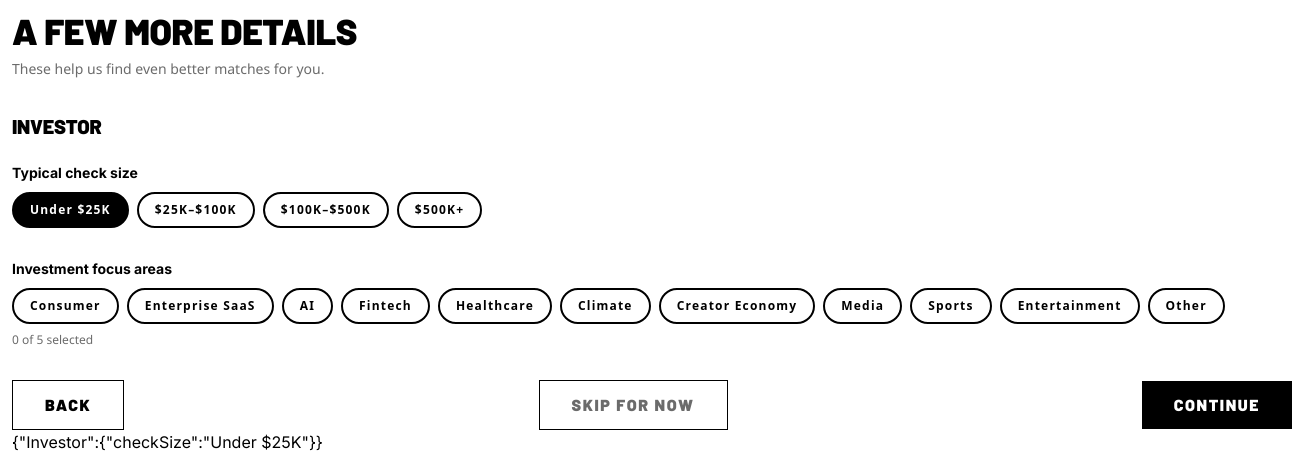
Test: allows optional skipping and clears the displayed answers
The image size is (1304, 469).
What coordinates should you click on to do the following:
click the button "Skip for now"
I would click on:
 (633, 405)
Its box is top-left (538, 380), bottom-right (728, 430).
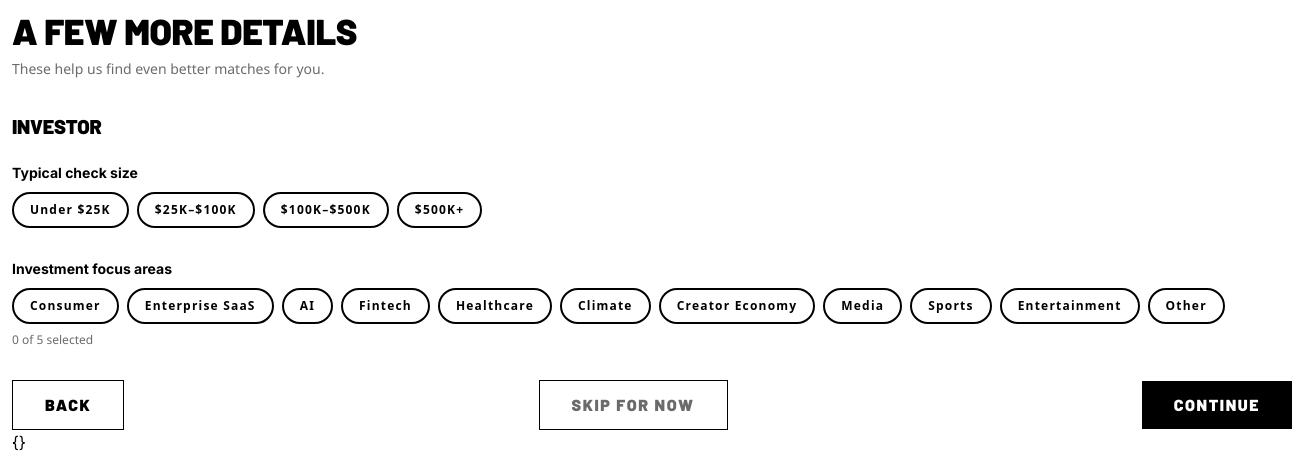
Result: the text "{}" is shown at top-left (12, 432), bottom-right (26, 452)
